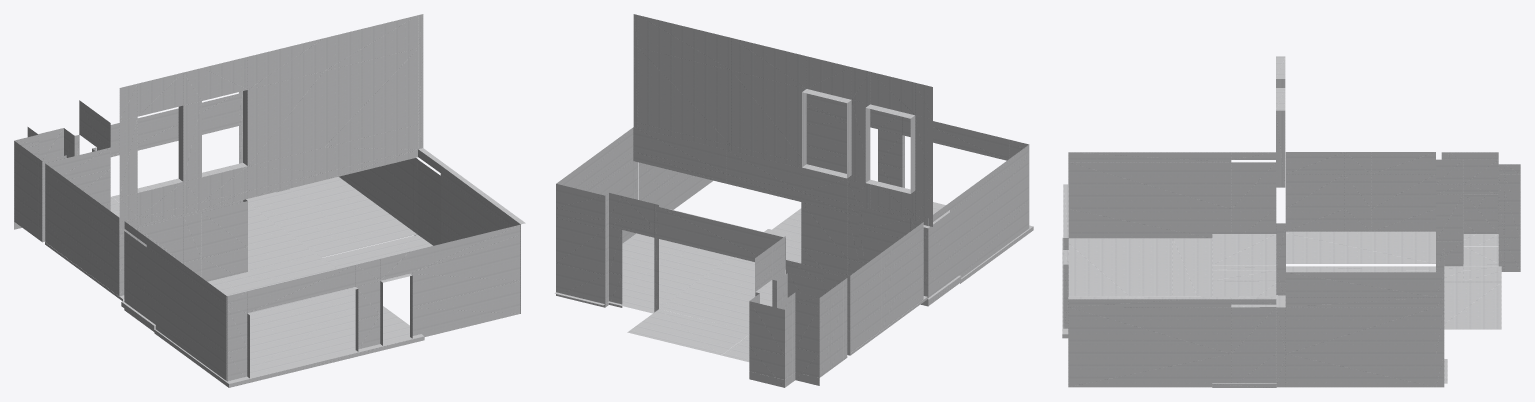
3 views of the same model, side by side, from view 1: azimuth 30°, elevation 25°; view 2: azimuth 150°, elevation 25°; view 3: azimuth 270°, elevation 25° (orthographic). The views are drawn at different scales.
Visible parts, largest first — view 1: Hover_Muro_C_Ext_Patio_Arriba_MT_Hover_Muro_C_Ext_Patio_Arri, Hover_Muro_C_Ext_Patio_Atras_UVa_MT_Hover_Muro_C_Ext_Patio_A, Hover_Piso_C_Ext_Cochera_UVb_MT_Hover_Piso_C_Ext_Cochera_UVb, Hover_Muro_C_Ext_Patio_Izq_UVa_MT_Hover_Muro_C_Ext_Patio_Izq, Hover_Piso_C_Int_Sala_UVb_MT_Hover_Piso_C_Int_Sala_UVb_0, Hover_Muro_C_Int_Cocina_Front_UVa_MT_Hover_Muro_C_Int_Cocina, Hover_Muro_C_Ext_Patio_Der_UVa_MT_Hover_Muro_C_Ext_Patio_Der, Hover_Muro_C_Ext_Patio_Front_UVa_MT_Hover_Muro_C_Ext_Patio_F, Hover_Piso_C_Ext_Pasillo_UVb_MT_Hover_Piso_C_Ext_Pasillo_UVb, Hover_Muro_C_Int_Sala_Der_UVa_MT_Hover_Muro_C_Int_Sala_Der_U, Hover_Muro_C_Int_Comedor_Front_UVa_MT_Hover_Muro_C_Int_Comed, Hover_Piso_C_Int_Comedor_UVb_MT_Hover_Piso_C_Int_Comedor_UVb (+6 smaller); view 2: Hover_Muro_C_Ext_Patio_Arriba_MT_Hover_Muro_C_Ext_Patio_Arri, Hover_Muro_C_Int_Comedor_Atras_UVa_MT_Hover_Muro_C_Int_Comed, Hover_Muro_C_Ext_Patio_Izq_UVa_MT_Hover_Muro_C_Ext_Patio_Izq, Hover_Muro_C_Ext_Patio_Atras_UVa_MT_Hover_Muro_C_Ext_Patio_A, Hover_Muro_C_Int_Cocina_Front_UVa_MT_Hover_Muro_C_Int_Cocina, Hover_Muro_C_Int_Sala_Front_UVa_MT_Hover_Muro_C_Int_Sala_Fro, Hover_Piso_C_Int_Sala_UVb_MT_Hover_Piso_C_Int_Sala_UVb_0, Hover_Piso_C_Int_Comedor_UVb_MT_Hover_Piso_C_Int_Comedor_UVb, Hover_Muro_C_Int_Sala_Front2_UVa_MT_Hover_Muro_C_Int_Sala_Fr, Hover_Muro_C_Int_Comedor_Front_UVa_MT_Hover_Muro_C_Int_Comed, Hover_Muro_C_Int_Sala_Der_UVa_MT_Hover_Muro_C_Int_Sala_Der_U, Hover_Muro_C_Int_Banio_Der2_UVa_MT_Hover_Muro_C_Int_Banio_De (+11 smaller); view 3: Hover_Muro_C_Int_Sala_Der_UVa_MT_Hover_Muro_C_Int_Sala_Der_U, Hover_Muro_C_Ext_Patio_Der_UVa_MT_Hover_Muro_C_Ext_Patio_Der, Hover_Muro_C_Ext_Patio_Izq_UVa_MT_Hover_Muro_C_Ext_Patio_Izq, Hover_Muro_C_Int_Cocina_Front_UVa_MT_Hover_Muro_C_Int_Cocina, Hover_Piso_C_Ext_Cochera_UVb_MT_Hover_Piso_C_Ext_Cochera_UVb, Hover_Piso_C_Int_Cocina_UVb_MT_Hover_Piso_C_Int_Cocina_UVb_0, Hover_Piso_C_Ext_Pasillo_UVb_MT_Hover_Piso_C_Ext_Pasillo_UVb, Hover_Muro_C_Int_Pasillo_Izq_UVa_MT_Hover_Muro_C_Int_Pasillo, Hover_Piso_C_Ext_Terraza_UVb_MT_Hover_Piso_C_Ext_Terraza_UVb, Hover_Piso_C_Int_Banio2_UVb_MT_Hover_Piso_C_Int_Banio2_UVb_0, Hover_Piso_C_Int_Comedor_UVb_MT_Hover_Piso_C_Int_Comedor_UVb, Hover_Muro_C_Int_Banio_Der_UVa_MT_Hover_Muro_C_Int_Banio_Der (+5 smaller).
Part boxes in pixels (bbox=[...]): Hover_Muro_C_Ext_Patio_Arriba_MT_Hover_Muro_C_Ext_Patio_Arri: bbox=[119, 14, 423, 229]; Hover_Muro_C_Ext_Patio_Atras_UVa_MT_Hover_Muro_C_Ext_Patio_A: bbox=[226, 224, 520, 381]; Hover_Piso_C_Ext_Cochera_UVb_MT_Hover_Piso_C_Ext_Cochera_UVb: bbox=[154, 289, 424, 387]; Hover_Muro_C_Ext_Patio_Izq_UVa_MT_Hover_Muro_C_Ext_Patio_Izq: bbox=[124, 221, 227, 381]; Hover_Piso_C_Int_Sala_UVb_MT_Hover_Piso_C_Int_Sala_UVb_0: bbox=[246, 176, 417, 257]; Hover_Muro_C_Int_Cocina_Front_UVa_MT_Hover_Muro_C_Int_Cocina: bbox=[45, 164, 119, 295]; Hover_Muro_C_Ext_Patio_Der_UVa_MT_Hover_Muro_C_Ext_Patio_Der: bbox=[418, 148, 525, 313]; Hover_Muro_C_Ext_Patio_Front_UVa_MT_Hover_Muro_C_Ext_Patio_F: bbox=[125, 201, 247, 281]; Hover_Piso_C_Ext_Pasillo_UVb_MT_Hover_Piso_C_Ext_Pasillo_UVb: bbox=[121, 234, 432, 329]; Hover_Muro_C_Int_Sala_Der_UVa_MT_Hover_Muro_C_Int_Sala_Der_U: bbox=[339, 158, 417, 235]; Hover_Muro_C_Int_Comedor_Front_UVa_MT_Hover_Muro_C_Int_Comed: bbox=[110, 93, 238, 157]; Hover_Piso_C_Int_Comedor_UVb_MT_Hover_Piso_C_Int_Comedor_UVb: bbox=[110, 197, 316, 270]; Hover_Muro_C_Ext_Patio_Arriba_MT_Hover_Muro_C_Ext_Patio_Arri: bbox=[633, 14, 932, 226]; Hover_Muro_C_Int_Comedor_Atras_UVa_MT_Hover_Muro_C_Int_Comed: bbox=[633, 127, 858, 275]; Hover_Muro_C_Ext_Patio_Izq_UVa_MT_Hover_Muro_C_Ext_Patio_Izq: bbox=[928, 145, 1029, 305]; Hover_Muro_C_Ext_Patio_Atras_UVa_MT_Hover_Muro_C_Ext_Patio_A: bbox=[806, 93, 1028, 187]; Hover_Muro_C_Int_Cocina_Front_UVa_MT_Hover_Muro_C_Int_Cocina: bbox=[850, 222, 923, 352]; Hover_Muro_C_Int_Sala_Front_UVa_MT_Hover_Muro_C_Int_Sala_Fro: bbox=[556, 183, 605, 307]; Hover_Piso_C_Int_Sala_UVb_MT_Hover_Piso_C_Int_Sala_UVb_0: bbox=[554, 233, 730, 313]; Hover_Piso_C_Int_Comedor_UVb_MT_Hover_Piso_C_Int_Comedor_UVb: bbox=[660, 256, 785, 361]; Hover_Muro_C_Int_Sala_Front2_UVa_MT_Hover_Muro_C_Int_Sala_Fr: bbox=[605, 193, 658, 312]; Hover_Muro_C_Int_Comedor_Front_UVa_MT_Hover_Muro_C_Int_Comed: bbox=[659, 207, 785, 269]; Hover_Muro_C_Int_Sala_Der_UVa_MT_Hover_Muro_C_Int_Sala_Der_U: bbox=[556, 127, 637, 243]; Hover_Muro_C_Int_Banio_Der2_UVa_MT_Hover_Muro_C_Int_Banio_De: bbox=[784, 292, 819, 387]; Hover_Muro_C_Int_Sala_Der_UVa_MT_Hover_Muro_C_Int_Sala_Der_U: bbox=[1276, 272, 1444, 387]; Hover_Muro_C_Ext_Patio_Der_UVa_MT_Hover_Muro_C_Ext_Patio_Der: bbox=[1068, 296, 1276, 387]; Hover_Muro_C_Ext_Patio_Izq_UVa_MT_Hover_Muro_C_Ext_Patio_Izq: bbox=[1068, 152, 1276, 238]; Hover_Muro_C_Int_Cocina_Front_UVa_MT_Hover_Muro_C_Int_Cocina: bbox=[1285, 152, 1435, 231]; Hover_Piso_C_Ext_Cochera_UVb_MT_Hover_Piso_C_Ext_Cochera_UVb: bbox=[1062, 237, 1212, 338]; Hover_Piso_C_Int_Cocina_UVb_MT_Hover_Piso_C_Int_Cocina_UVb_0: bbox=[1286, 231, 1435, 263]; Hover_Piso_C_Ext_Pasillo_UVb_MT_Hover_Piso_C_Ext_Pasillo_UVb: bbox=[1212, 234, 1277, 387]; Hover_Muro_C_Int_Pasillo_Izq_UVa_MT_Hover_Muro_C_Int_Pasillo: bbox=[1436, 159, 1498, 266]; Hover_Piso_C_Ext_Terraza_UVb_MT_Hover_Piso_C_Ext_Terraza_UVb: bbox=[1444, 282, 1501, 329]; Hover_Piso_C_Int_Banio2_UVb_MT_Hover_Piso_C_Int_Banio2_UVb_0: bbox=[1441, 152, 1498, 245]; Hover_Piso_C_Int_Comedor_UVb_MT_Hover_Piso_C_Int_Comedor_UVb: bbox=[1278, 266, 1501, 307]; Hover_Muro_C_Int_Banio_Der_UVa_MT_Hover_Muro_C_Int_Banio_Der: bbox=[1498, 192, 1520, 271].
Size of the model in its own units: 13 by 9.15 by 16.82.
Materials: 27 (27 with a texture image).
